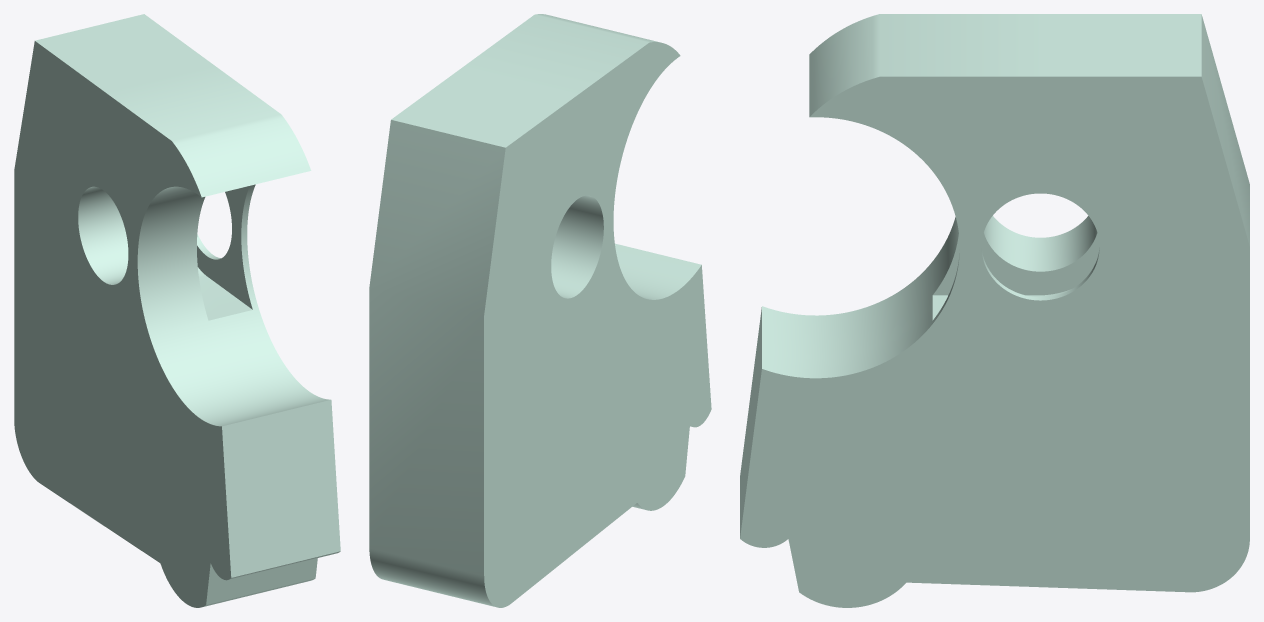
3 renders of one model, left to right at view 1: azimuth 30°, elevation 25°; view 2: azimuth 150°, elevation 25°; view 3: azimuth 270°, elevation 25°, orthographic. The views are drawn at different scales.
Parts seen in each view (by area): view 1: Renderer Node; view 2: Renderer Node; view 3: Renderer Node.
Boxes of the visible parts, box(x1,y1,x2,y2) form: Renderer Node: box(14, 14, 340, 607); Renderer Node: box(369, 14, 711, 607); Renderer Node: box(740, 14, 1249, 607).
Bounding box in the file's own units: 0.2891 × 1.14 × 0.9922.
